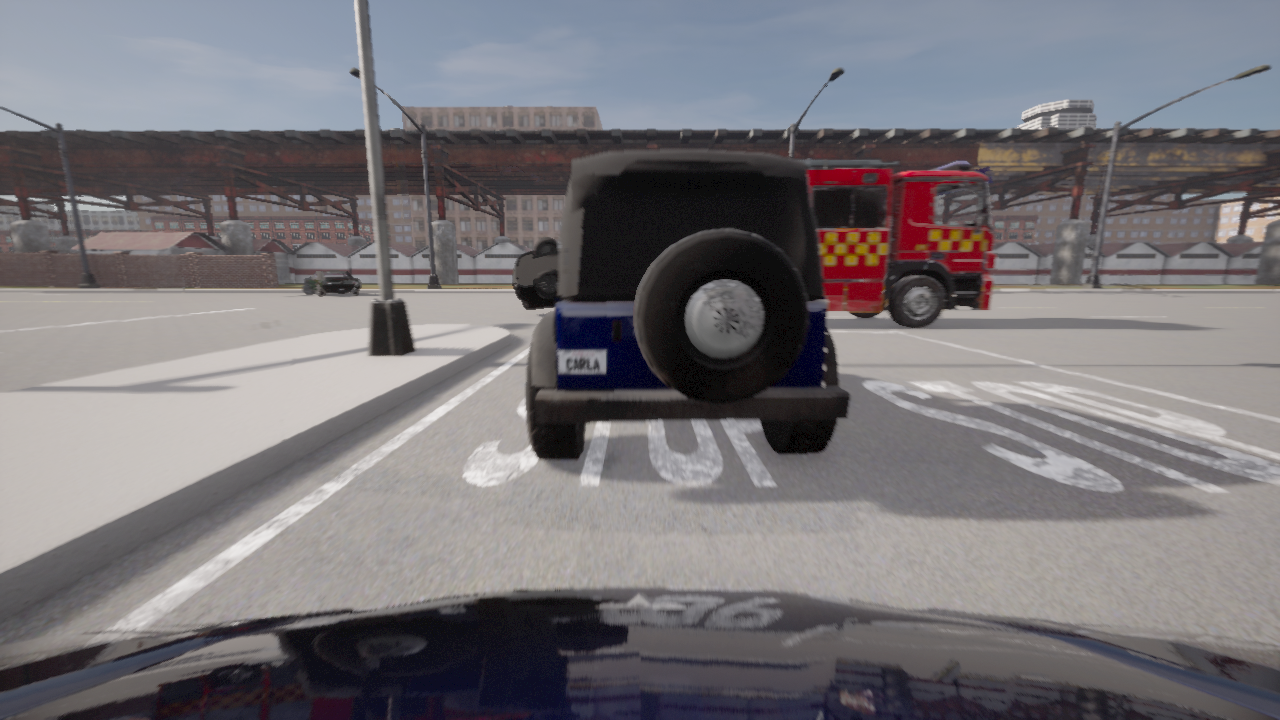cyclist: (0, 588, 1279, 719), (526, 149, 850, 459), (795, 159, 995, 328), (512, 238, 558, 308), (302, 272, 360, 295)
